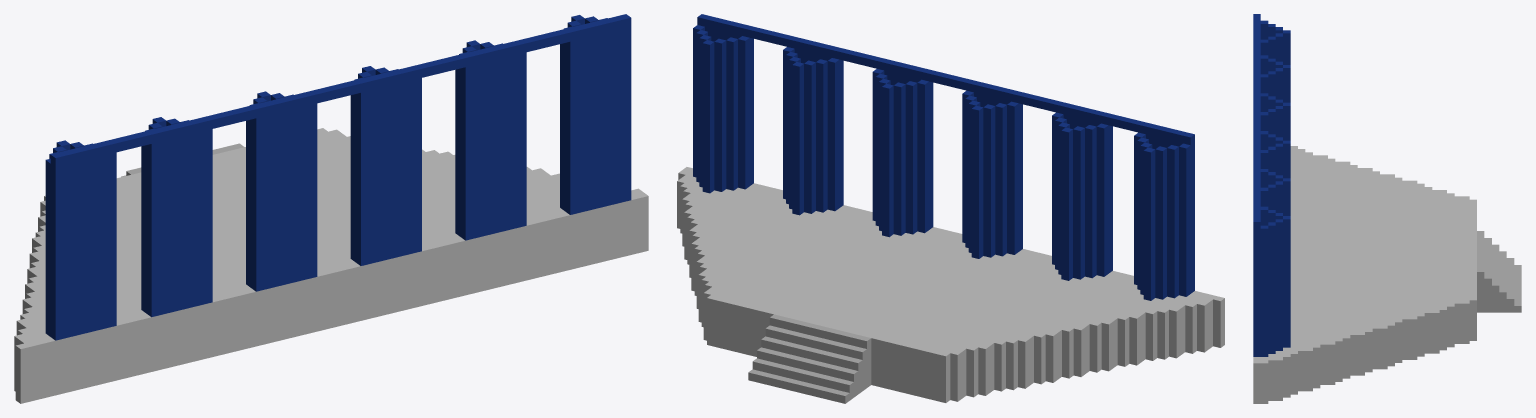
The model's file is Escenario.obj.
3 views of the same model, side by side, from view 1: azimuth 30°, elevation 25°; view 2: azimuth 150°, elevation 25°; view 3: azimuth 270°, elevation 25° (orthographic). The views are drawn at different scales.
Bounding box in the file's own units: 7.2 × 2.6 × 3.6.
Materials: 1 (1 with a texture image).
